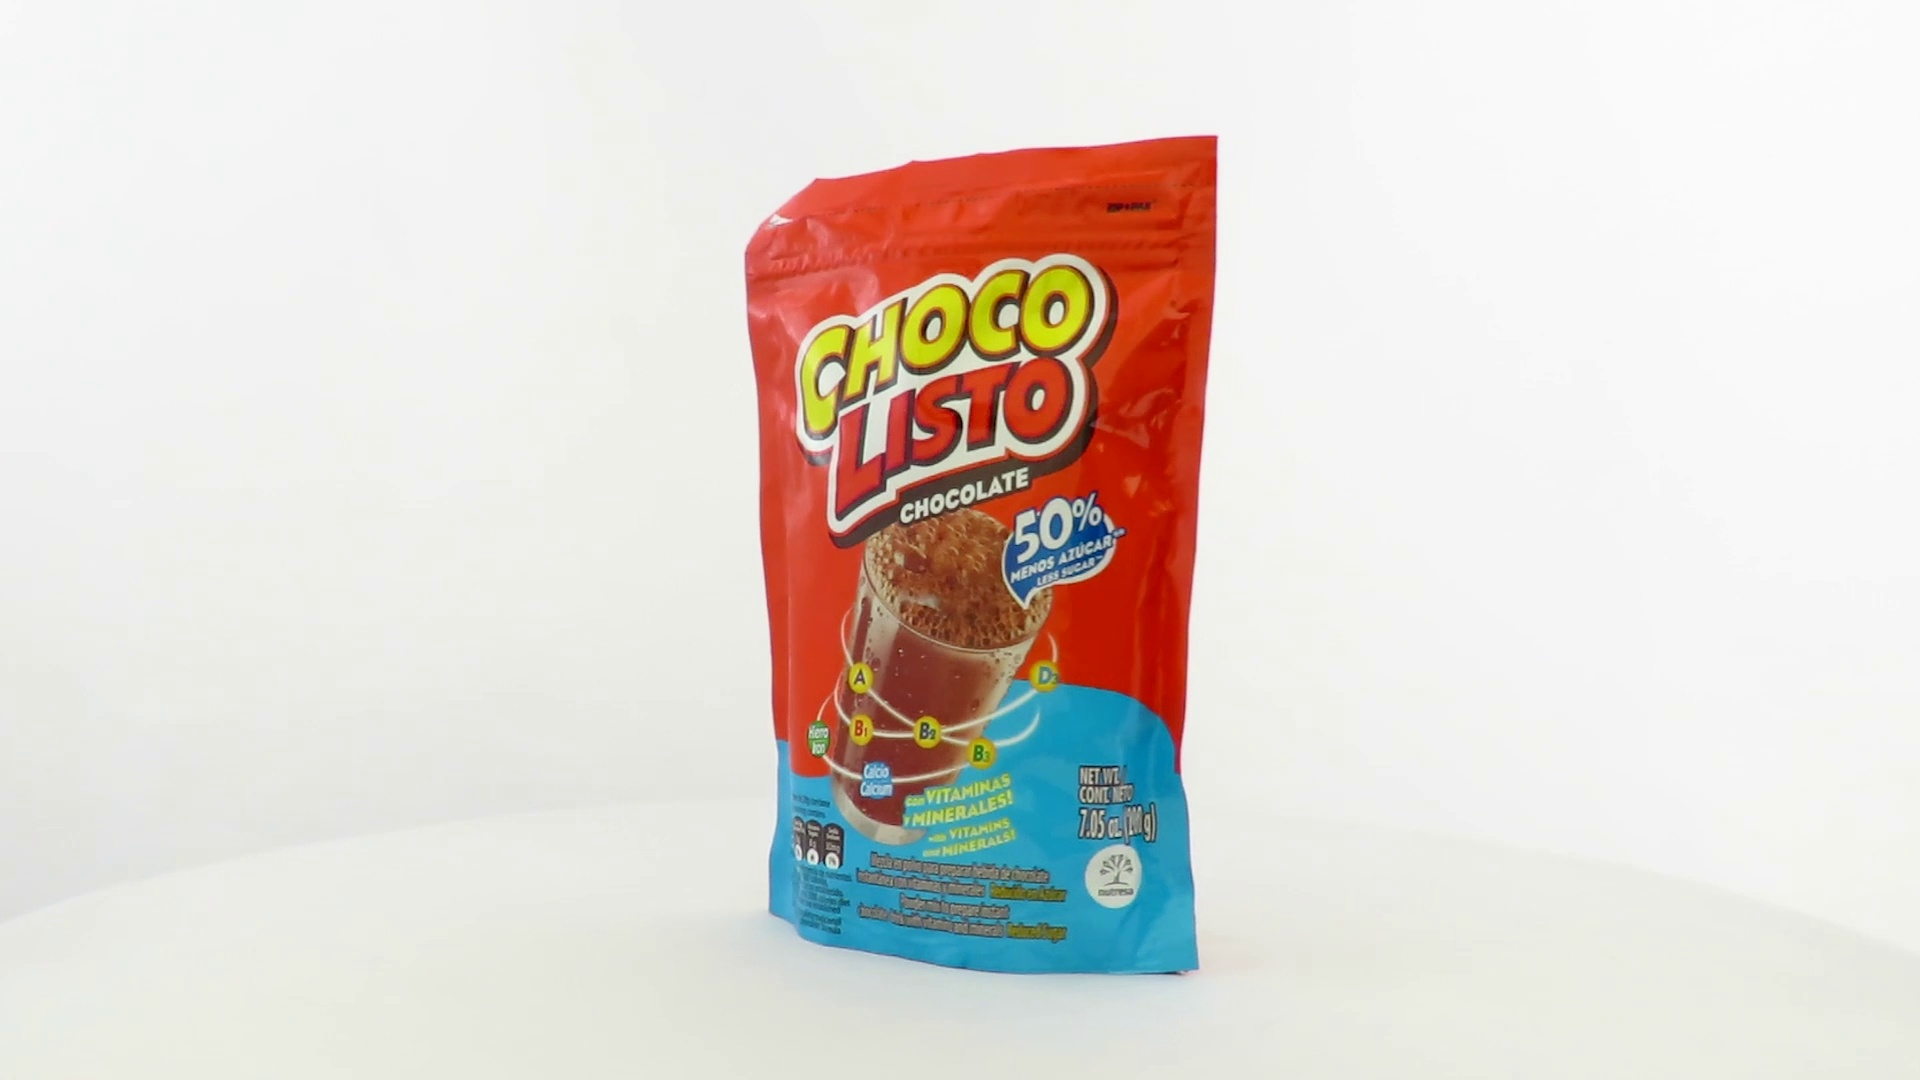COL0170104DYP20000: (738, 131, 1224, 982)
